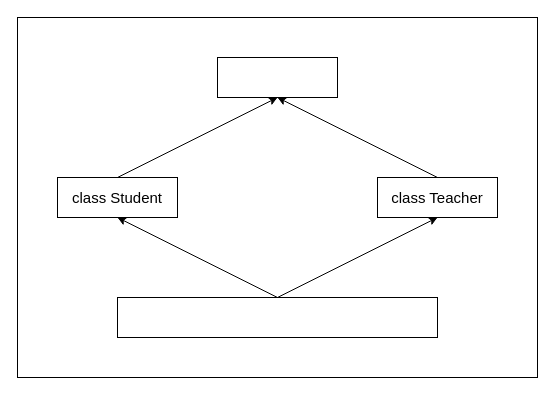
Some shapes in this 555 by 395 pixel diagram are drawn without their labels. The shapes that lost their labels are listed below. From the top down, each one's centre as x and y in pixels, then its label:
At (277,77): "class Person".
At (277,317): "class Assistant : public Student , public Teacher".
